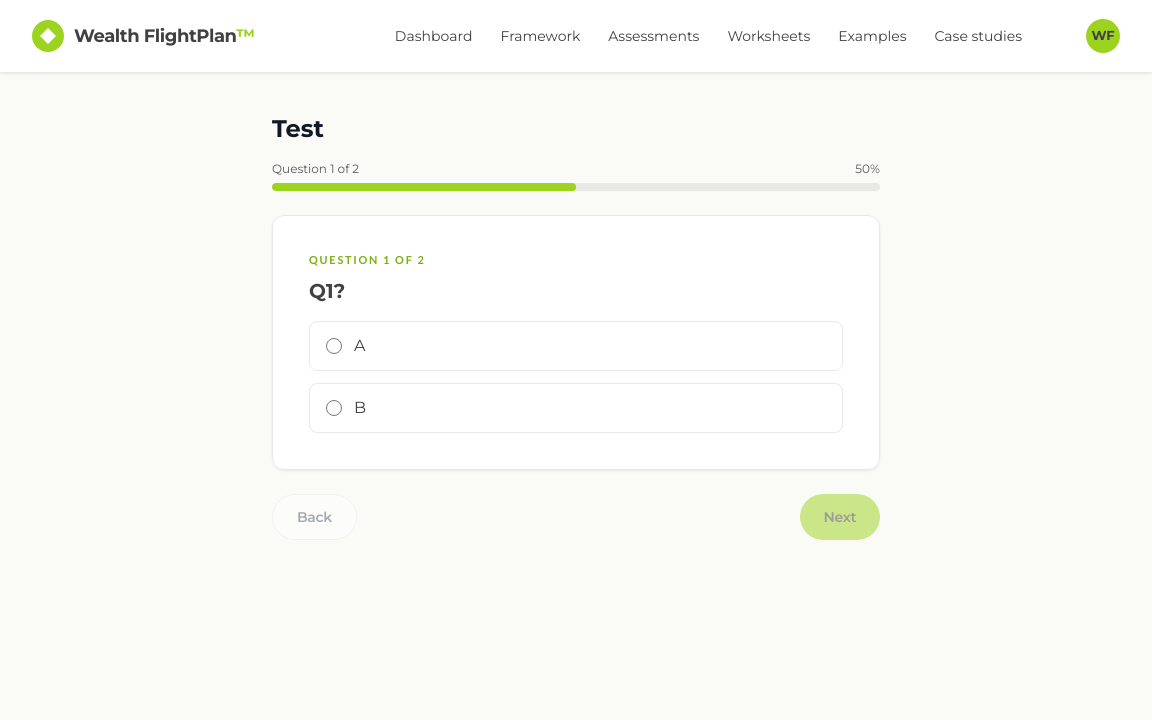
Scenario: AssessmentFlow › maps VALIDATION_ERROR details into a field-level error
Click the radio button labelled "A": (334, 346) [326,338,342,354]
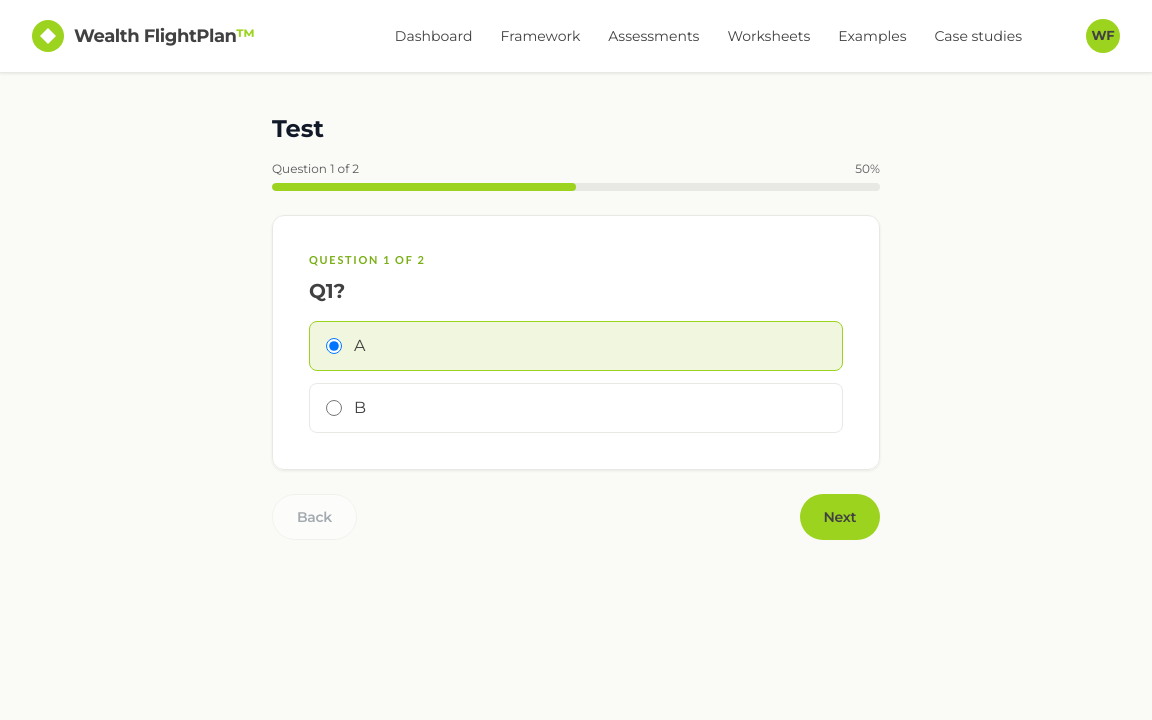
Click the button "Next": (840, 516) [800,494,880,540]
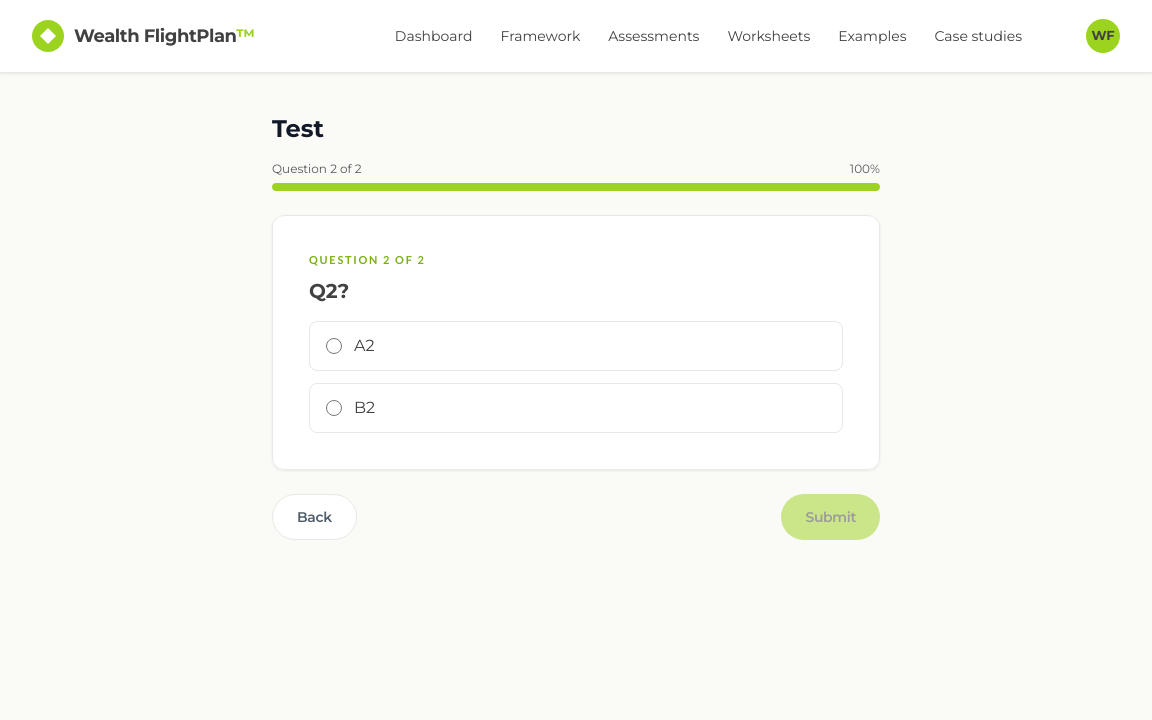
Click the radio button labelled "B2": (334, 408) [326,400,342,416]
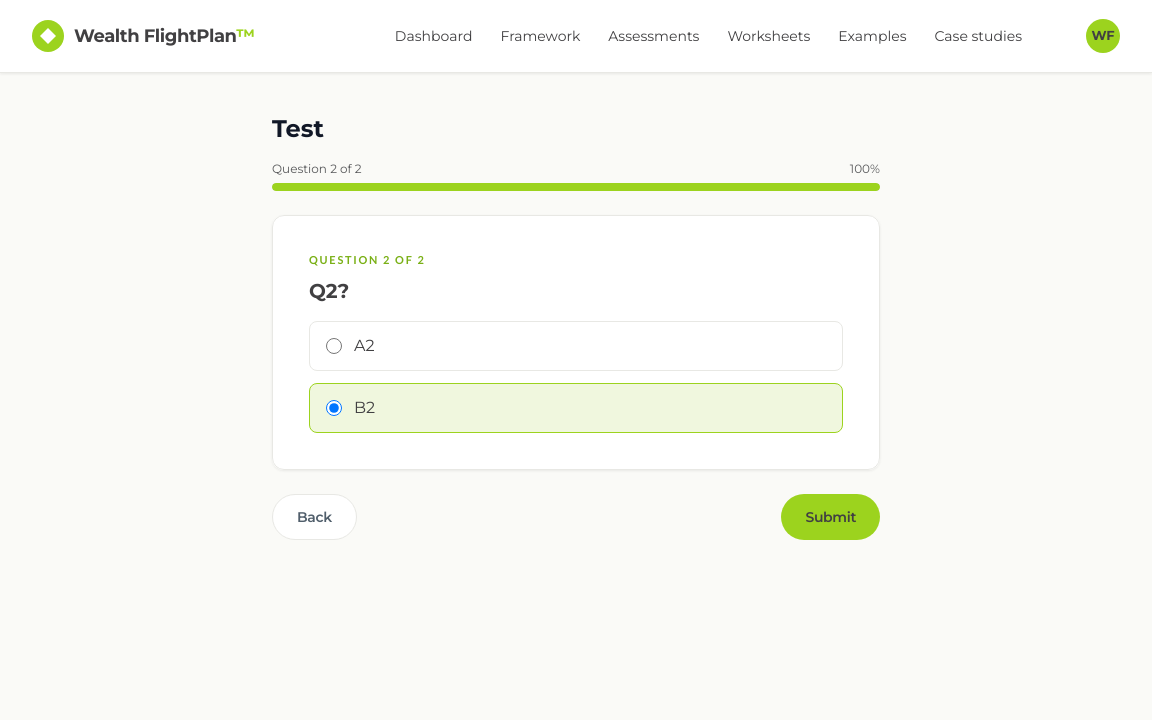
Click the button with aria-label "submit assessment": (831, 516) [781,494,880,540]
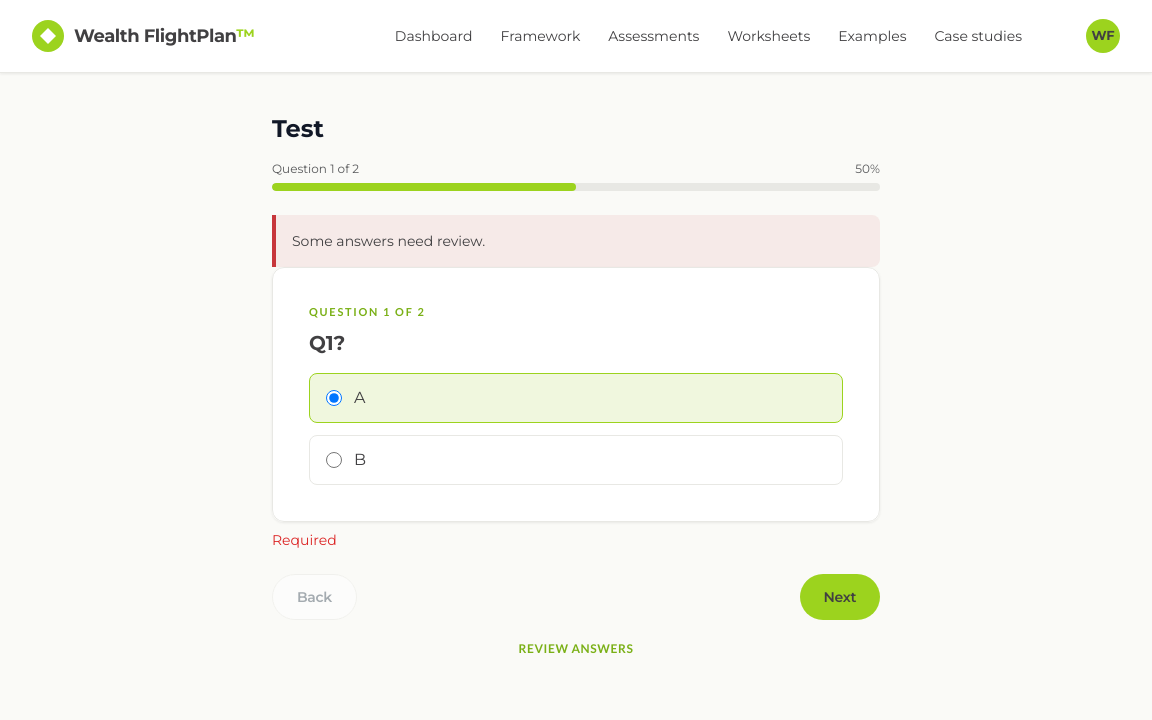
Expected: the heading "Q1?" is shown, [309,330,345,354]
Now the text "Some answers need review." is shown, box [292,232,485,250]
Now the text "Required" is shown, box [272,530,337,548]
